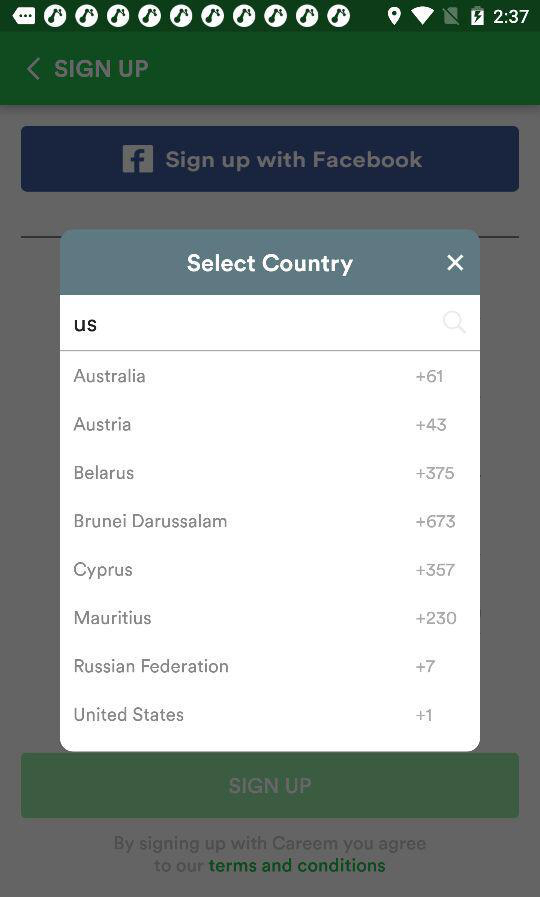Icon: (441, 310, 468, 335), (444, 253, 466, 273), (26, 57, 42, 82)
Modal: (60, 229, 481, 753)
Text: (115, 835, 426, 873), (189, 253, 354, 277), (75, 657, 232, 674), (75, 513, 229, 529), (75, 705, 186, 723), (55, 59, 149, 79), (75, 608, 154, 626), (74, 561, 134, 581), (73, 368, 148, 384), (74, 464, 136, 481), (73, 416, 133, 433), (417, 513, 457, 530), (416, 610, 458, 626), (417, 561, 457, 577), (417, 465, 456, 481), (417, 417, 448, 433), (416, 369, 444, 384), (74, 319, 98, 335), (415, 659, 437, 673), (416, 708, 432, 724)
TextButton: (21, 126, 520, 194), (21, 753, 520, 819)
UpperTaskBar: (1, 1, 540, 33)
